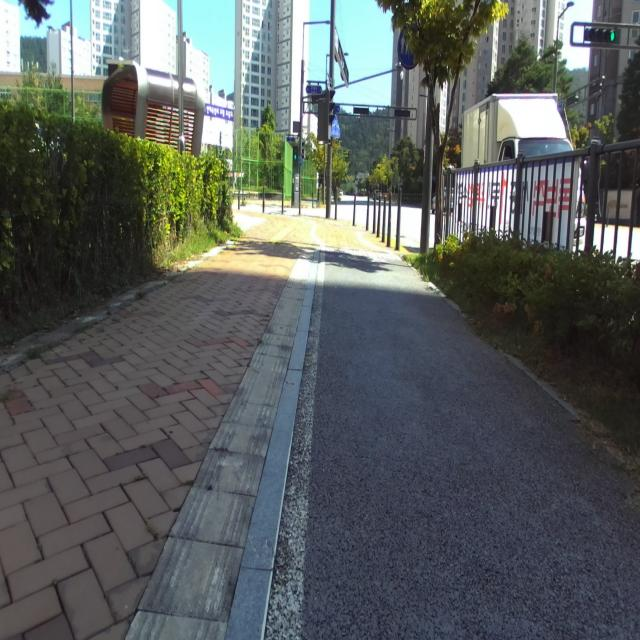초록불: (293, 143, 298, 170)
